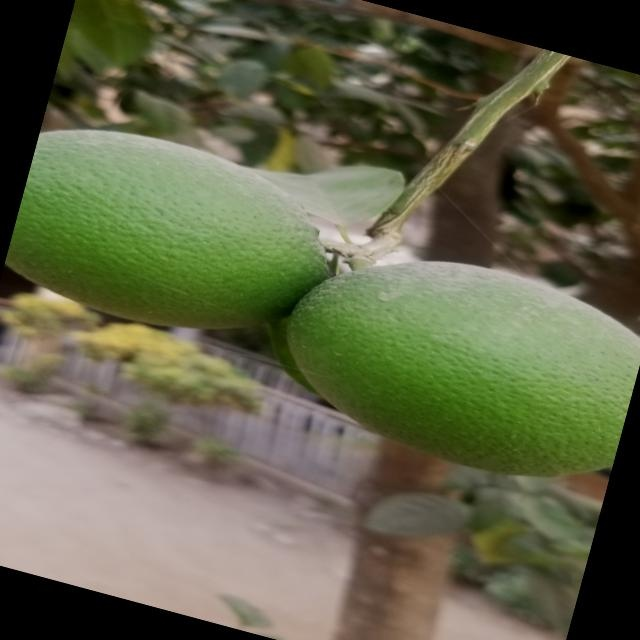agrume: (255, 215, 640, 504), (1, 111, 332, 362)
